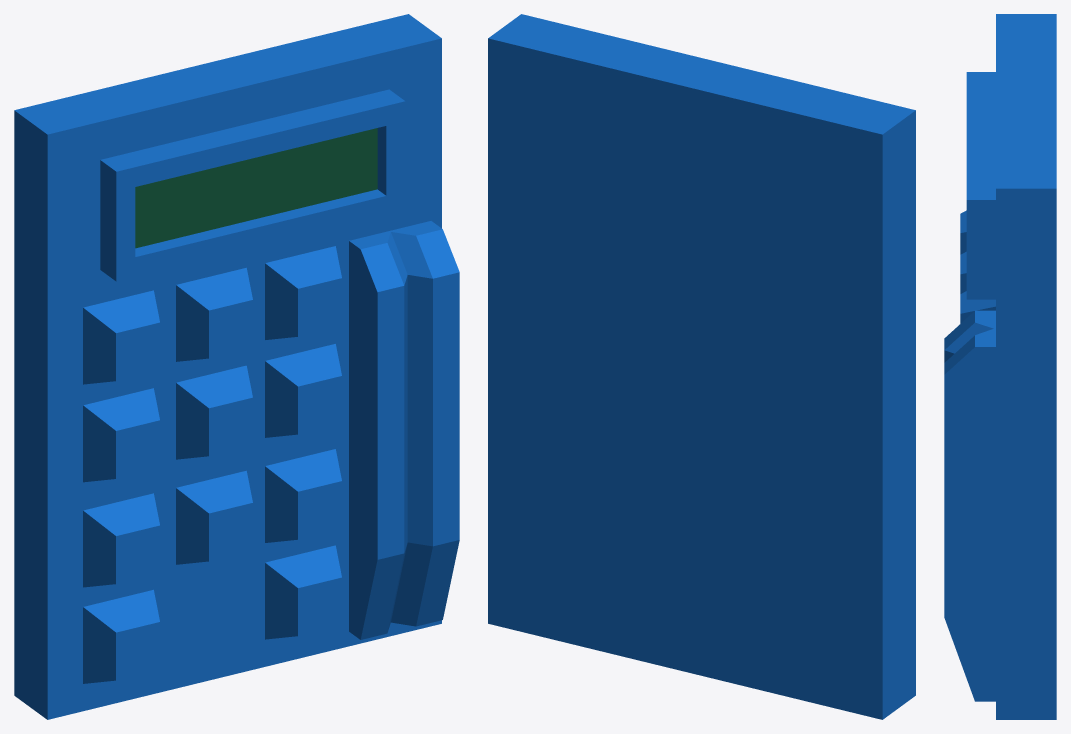
File: T_meter.fbx
3 views of the same model, side by side, from view 1: azimuth 30°, elevation 25°; view 2: azimuth 150°, elevation 25°; view 3: azimuth 270°, elevation 25° (orthographic). The views are drawn at different scales.
Visible parts, largest first — view 1: meter; view 2: meter; view 3: meter.
Boxes of the visible parts, <box> form: meter: <box>14,14,459,719</box>; meter: <box>488,14,915,719</box>; meter: <box>944,14,1056,719</box>.
Size of the model in its own units: 14.78 by 20.95 by 4.01.
